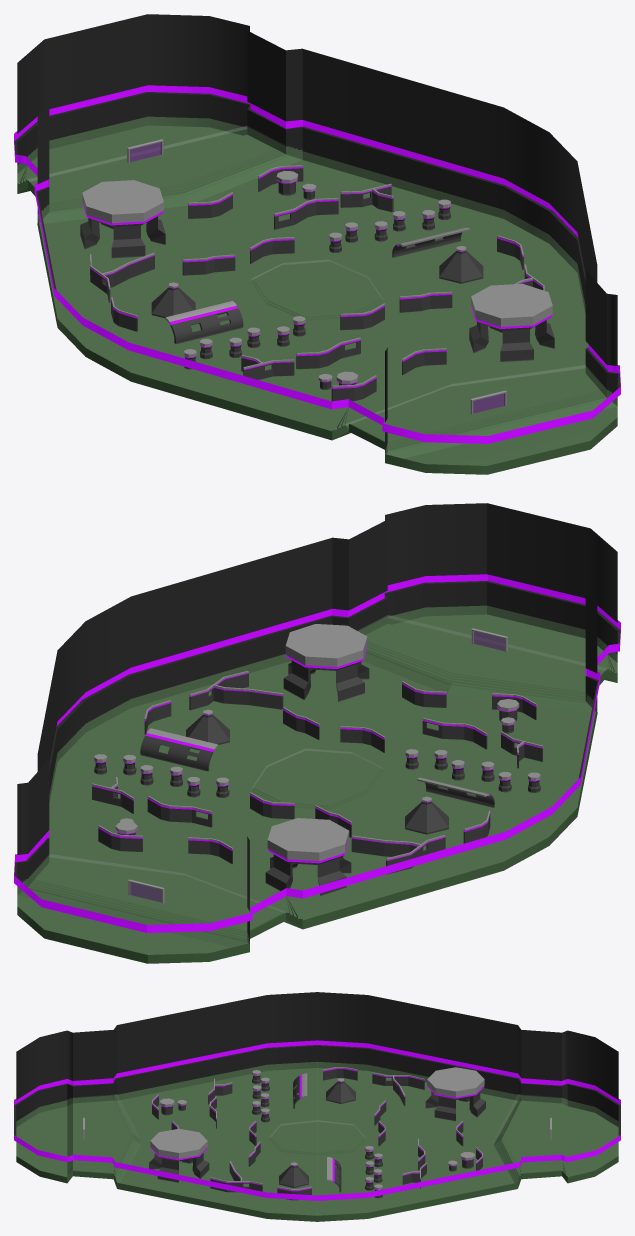
Rendered from Map_Multi.fbx.
The picture shows the model from 3 angles, top to bottom: view 1: azimuth 30°, elevation 25°; view 2: azimuth 150°, elevation 25°; view 3: azimuth 270°, elevation 25°; orthographic projection. The views are drawn at different scales.
Parts seen in each view (by area): view 1: Map_Multi; view 2: Map_Multi; view 3: Map_Multi.
Part boxes in pixels (<box>): Map_Multi: <box>14,14,620,474</box>; Map_Multi: <box>14,503,620,963</box>; Map_Multi: <box>14,992,620,1221</box>.
Bounding box in the file's own units: 344 × 77.98 × 566.
